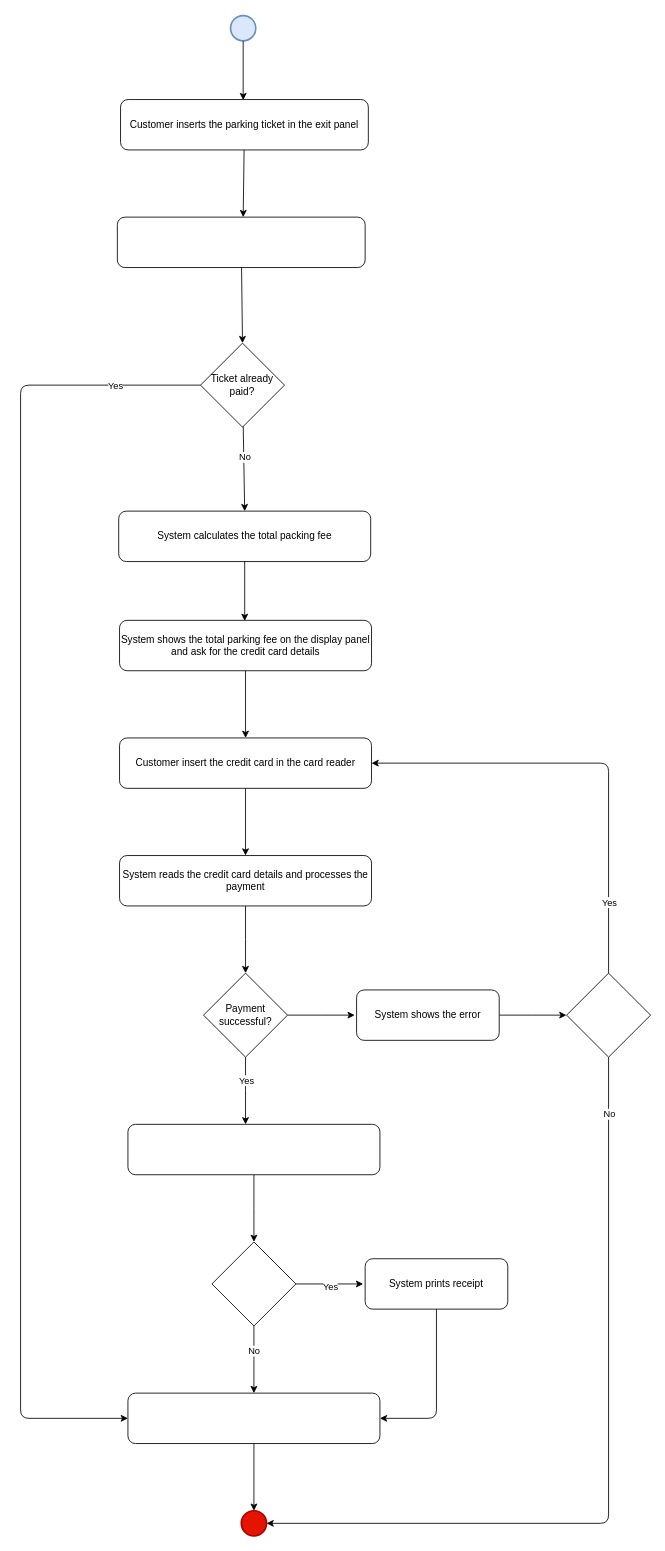
The diagram is 665 pixels wide and 1551 high, and some of its shapes have lost their labels. The centre of each missing label's shape, as x and y in pixels:
Print receipt?: the point at 253,1283
System scans the parking ticket and fetches ticket's details: the point at 241,242
System sends the signal to open the parking gate: the point at 253,1418
System shows success message: the point at 253,1149
Try again?: the point at 608,1014
